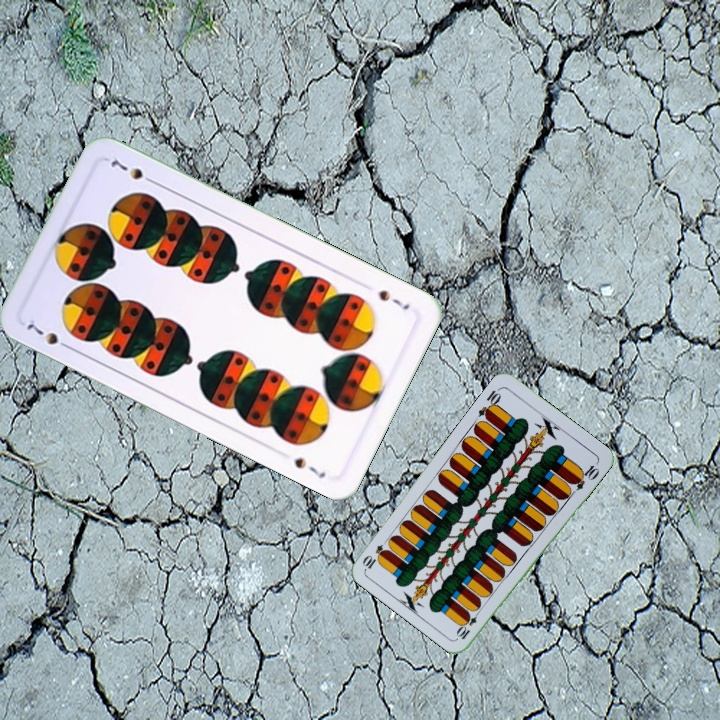E10: (474, 384, 504, 422), (453, 605, 483, 642)
S7: (23, 319, 75, 353), (374, 285, 413, 313)
